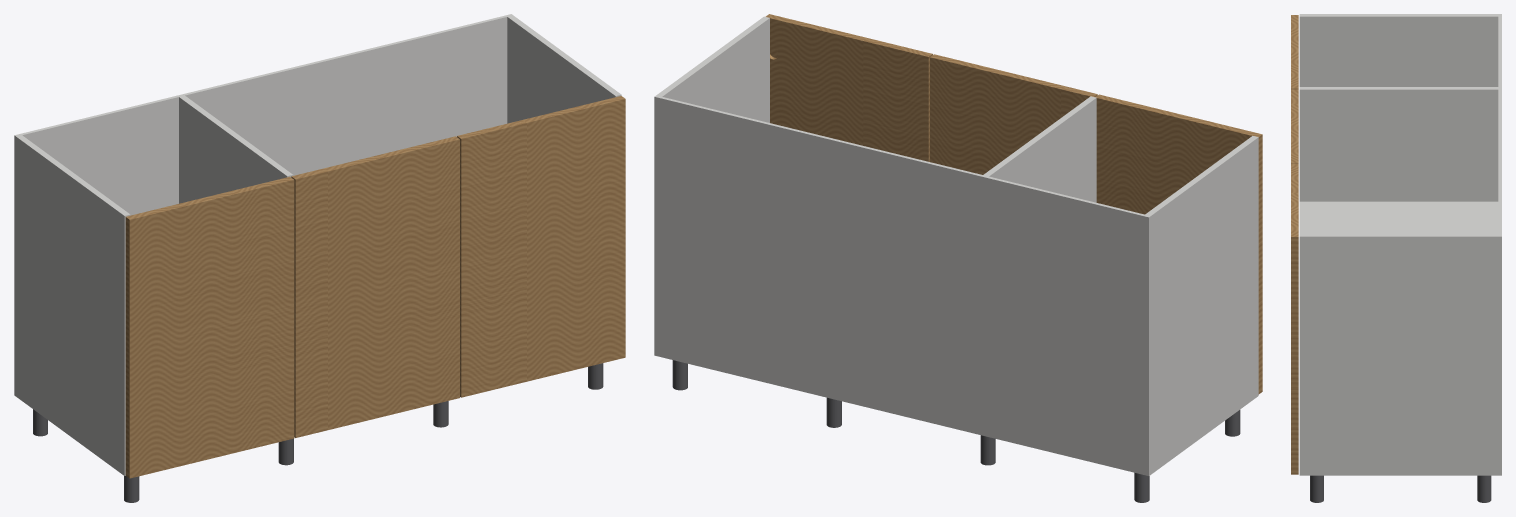
The model's file is w1500_none_pair_closed.glb.
3 views of the same model, side by side, from view 1: azimuth 30°, elevation 25°; view 2: azimuth 150°, elevation 25°; view 3: azimuth 270°, elevation 25° (orthographic). The views are drawn at different scales.
Parts seen in each view (by area): view 1: oak, white, leg; view 2: white, oak, leg; view 3: white, oak, leg.
Part boxes in pixels (x1=…): oak: x1=125, y1=96, x2=625, y2=478; white: x1=14, y1=14, x2=621, y2=475; leg: x1=33, y1=363, x2=603, y2=502; white: x1=654, y1=16, x2=1258, y2=475; oak: x1=765, y1=14, x2=1262, y2=394; leg: x1=672, y1=360, x2=1240, y2=502; white: x1=1299, y1=14, x2=1501, y2=475; oak: x1=1291, y1=15, x2=1298, y2=474; leg: x1=1310, y1=475, x2=1491, y2=502.
Bounding box in the file's own units: 1.5 × 0.85 × 0.6.
Materials: 3 (1 with a texture image).
